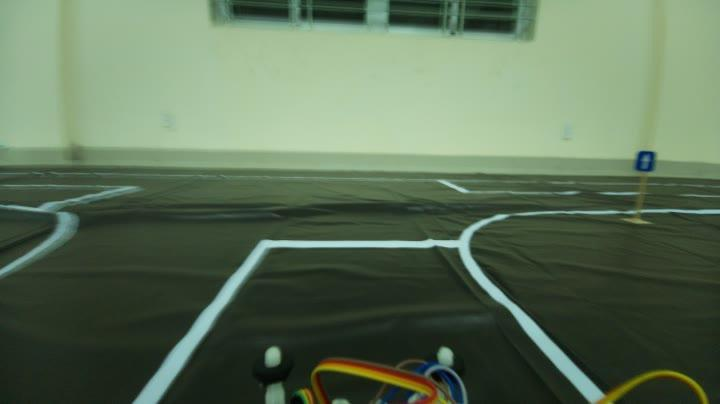onewayroad: (630, 147, 664, 176)
